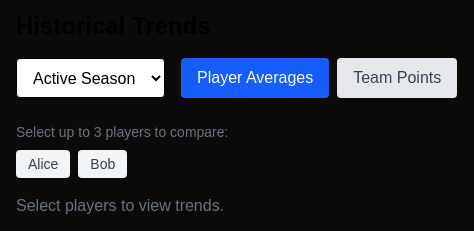
HistoricalTrendsPage › switches to team mode and shows team buttons
Click the button "Team Points" at (397, 78), box [337,58,457,98]
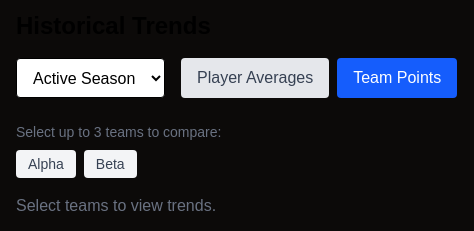
expect the button "Alpha" is shown: met, box [16,150,76,178]
expect the button "Beta" is shown: met, box [84,150,137,178]
expect the text "Select up to 3 teams to compare:" is shown: met, box [16,124,222,140]
